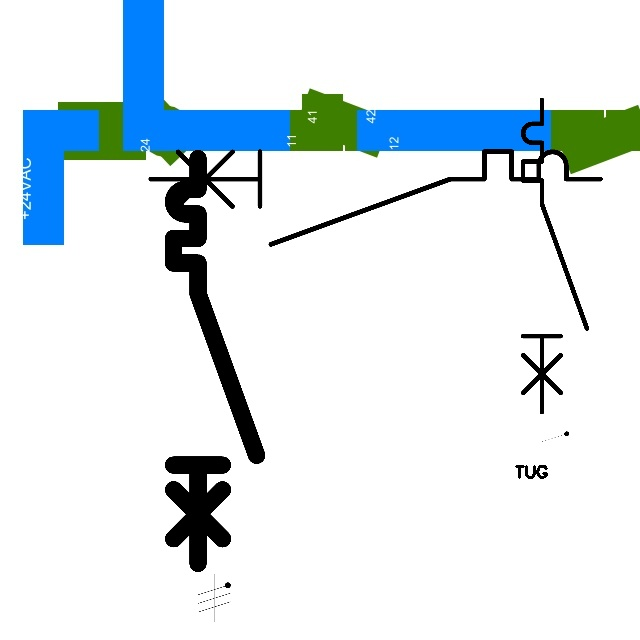interruptor_termomagnetico: (139, 140, 612, 255), (163, 148, 267, 573), (515, 92, 595, 420)
